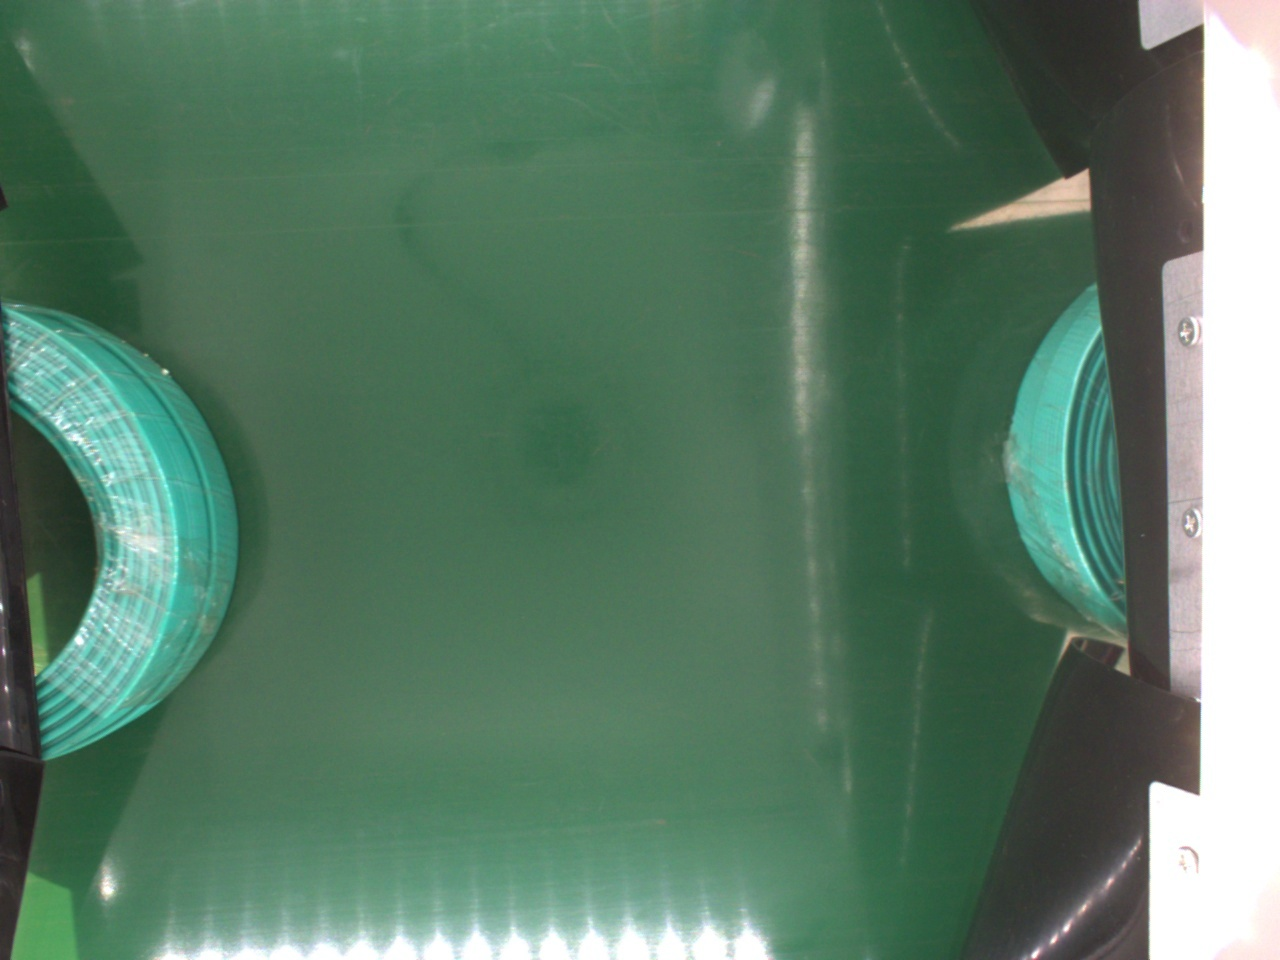green: (8, 304, 239, 763), (1007, 281, 1129, 627)
